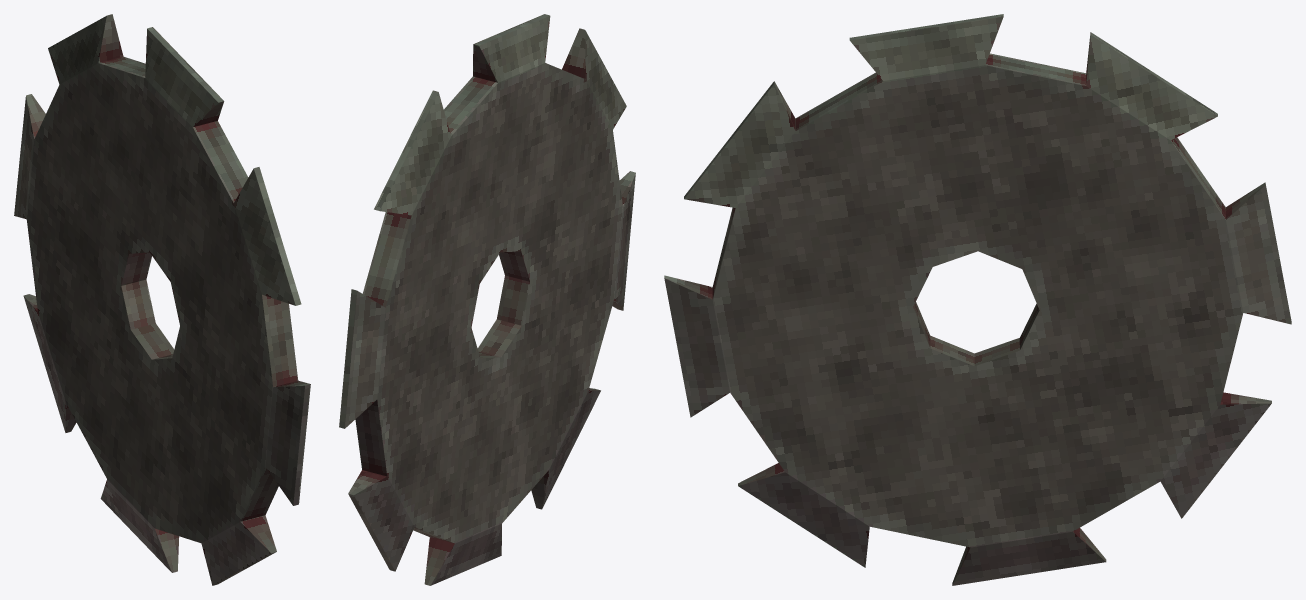
Rendered from spinningblade-variant-1.glb.
3 renders of one model, left to right at view 1: azimuth 30°, elevation 25°; view 2: azimuth 150°, elevation 25°; view 3: azimuth 270°, elevation 25°, orthographic. The views are drawn at different scales.
Parts seen in each view (by area): view 1: Spinningblade_Variant_1; view 2: Spinningblade_Variant_1; view 3: Spinningblade_Variant_1.
Boxes of the visible parts, bbox=[...] form: Spinningblade_Variant_1: bbox=[14, 14, 310, 585]; Spinningblade_Variant_1: bbox=[339, 14, 635, 585]; Spinningblade_Variant_1: bbox=[664, 14, 1291, 585].
Size of the model in its own units: 0.0963 by 1.74 by 1.74.
Materials: 1 (1 with a texture image).
